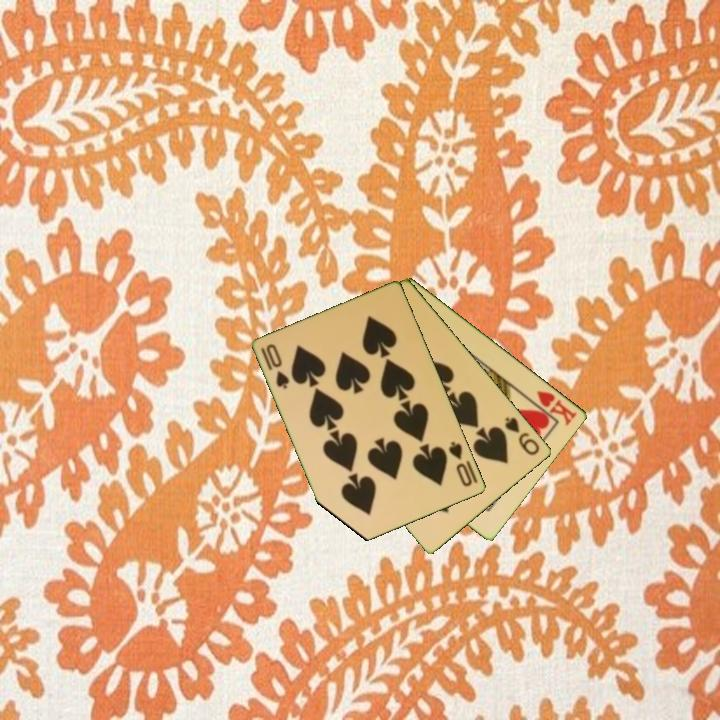10s: (258, 340, 293, 392), (445, 438, 476, 490)
9s: (501, 413, 543, 458)
Kh: (525, 387, 580, 429)
